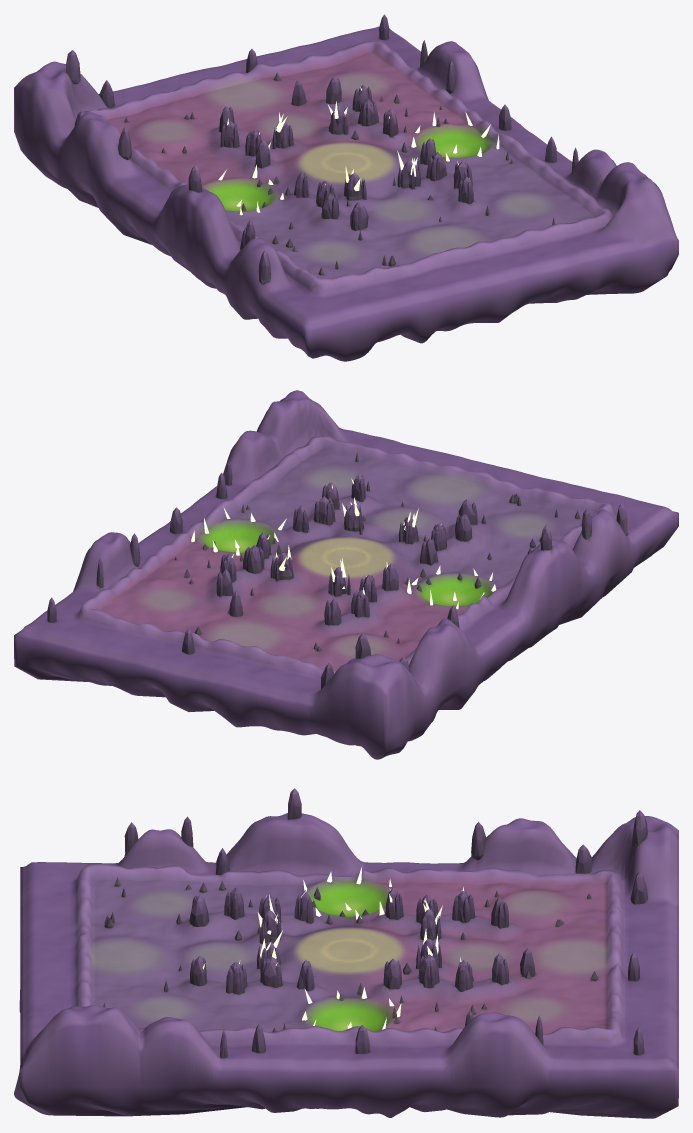
The model's file is battlefield.glb.
3 renders of one model, top to bottom at view 1: azimuth 30°, elevation 25°; view 2: azimuth 150°, elevation 25°; view 3: azimuth 270°, elevation 25°, orthographic. The views are drawn at different scales.
Parts seen in each view (by area): view 1: Island, Rocks, Crystals; view 2: Island, Rocks, Crystals; view 3: Island, Rocks, Crystals.
Boxes of the visible parts, box(x1,y1,x2,y2) form: Island: box(14, 26, 678, 361); Rocks: box(66, 14, 578, 284); Crystals: box(218, 87, 499, 215); Island: box(14, 390, 678, 759); Rocks: box(47, 452, 628, 688); Crystals: box(191, 478, 496, 609); Island: box(14, 813, 678, 1118); Rocks: box(103, 788, 648, 1058); Crystals: box(202, 867, 463, 1029).
Bounding box in the file's own units: 12.85 × 6.28 × 17.54.
